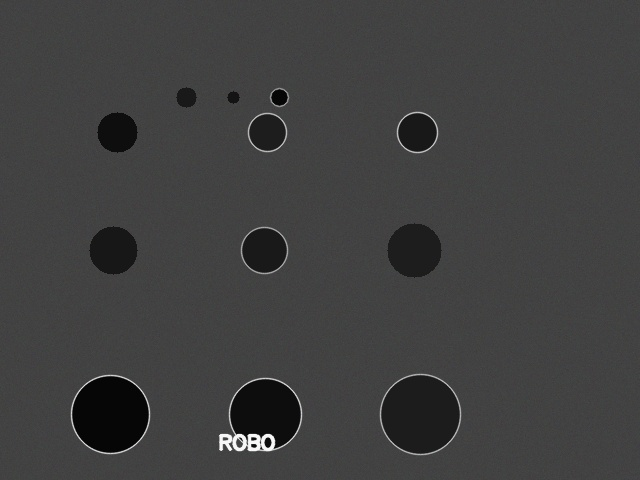hole: (380, 374, 460, 454), (71, 375, 149, 453), (229, 378, 301, 450), (387, 223, 441, 277), (89, 226, 137, 274), (241, 227, 287, 273), (97, 112, 137, 152), (397, 112, 437, 152), (248, 113, 286, 151), (176, 87, 196, 107), (270, 88, 288, 106), (227, 91, 239, 103)
